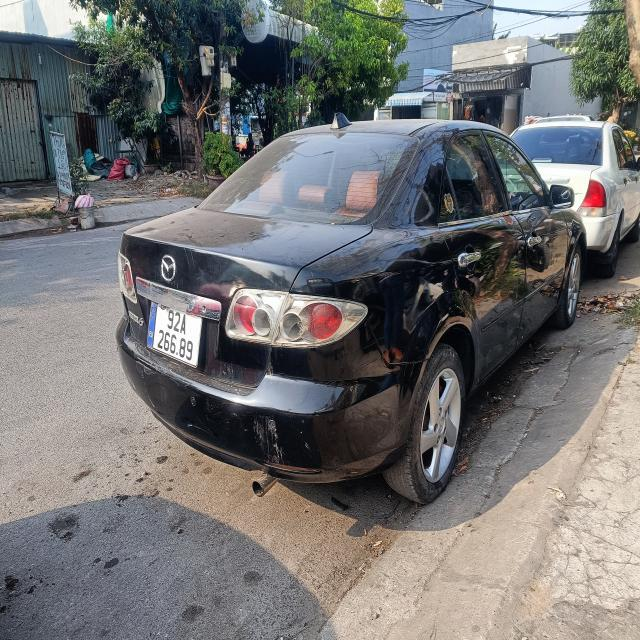car: (107, 112, 589, 506), (511, 112, 639, 281)
plate: (143, 299, 207, 368)
